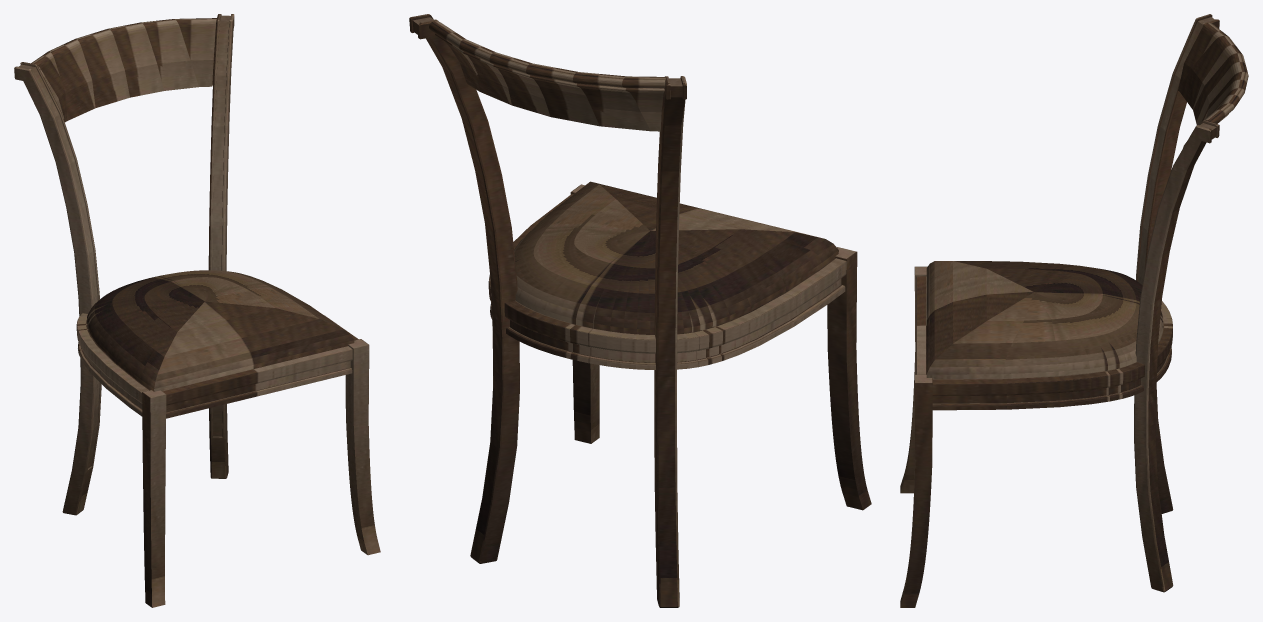
The picture shows the model from 3 angles, left to right: view 1: azimuth 30°, elevation 25°; view 2: azimuth 150°, elevation 25°; view 3: azimuth 270°, elevation 25°; orthographic projection. The views are drawn at different scales.
Parts seen in each view (by area): view 1: Mesh6_____5____1_1_Component_14_1_Component_16_1_Model; view 2: Mesh6_____5____1_1_Component_14_1_Component_16_1_Model; view 3: Mesh6_____5____1_1_Component_14_1_Component_16_1_Model.
Part boxes in pixels (x1,y1,x2,y2): Mesh6_____5____1_1_Component_14_1_Component_16_1_Model: [14, 14, 380, 607]; Mesh6_____5____1_1_Component_14_1_Component_16_1_Model: [409, 14, 871, 607]; Mesh6_____5____1_1_Component_14_1_Component_16_1_Model: [900, 14, 1248, 607].
Bounding box in the file's own units: 0.5496 × 0.6647 × 1.
1 material, 1 textured.
